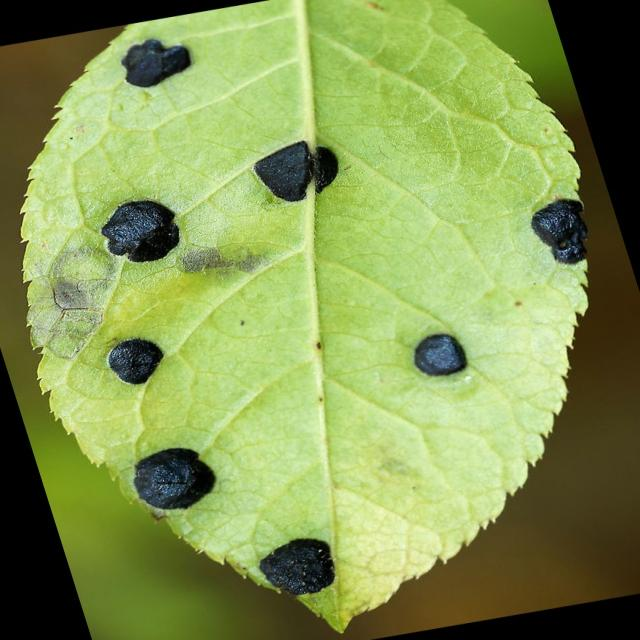Tar_Spot: (16, 0, 593, 635)
